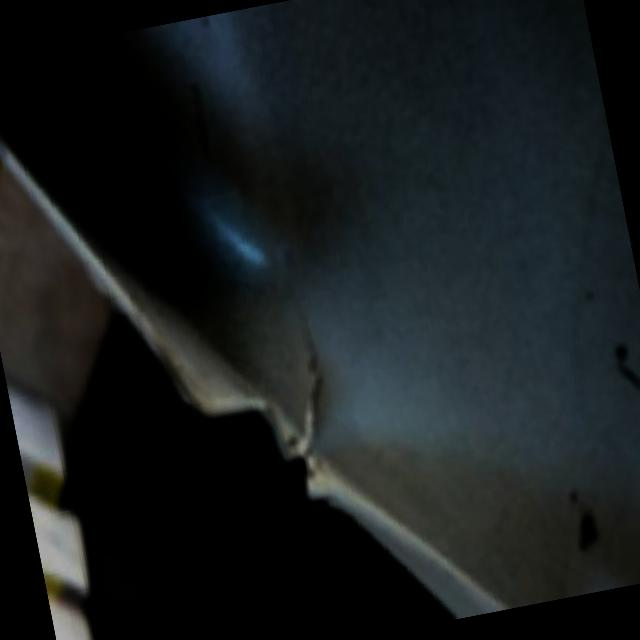crack: (285, 340, 333, 449)
